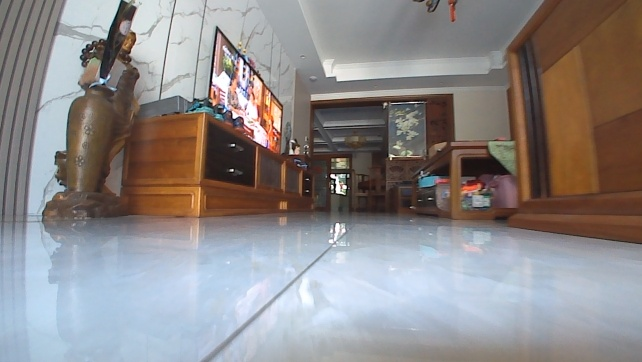TV_stand: (118, 110, 319, 219)
dining_table: (346, 164, 388, 214)
tea_table: (407, 136, 523, 223)
